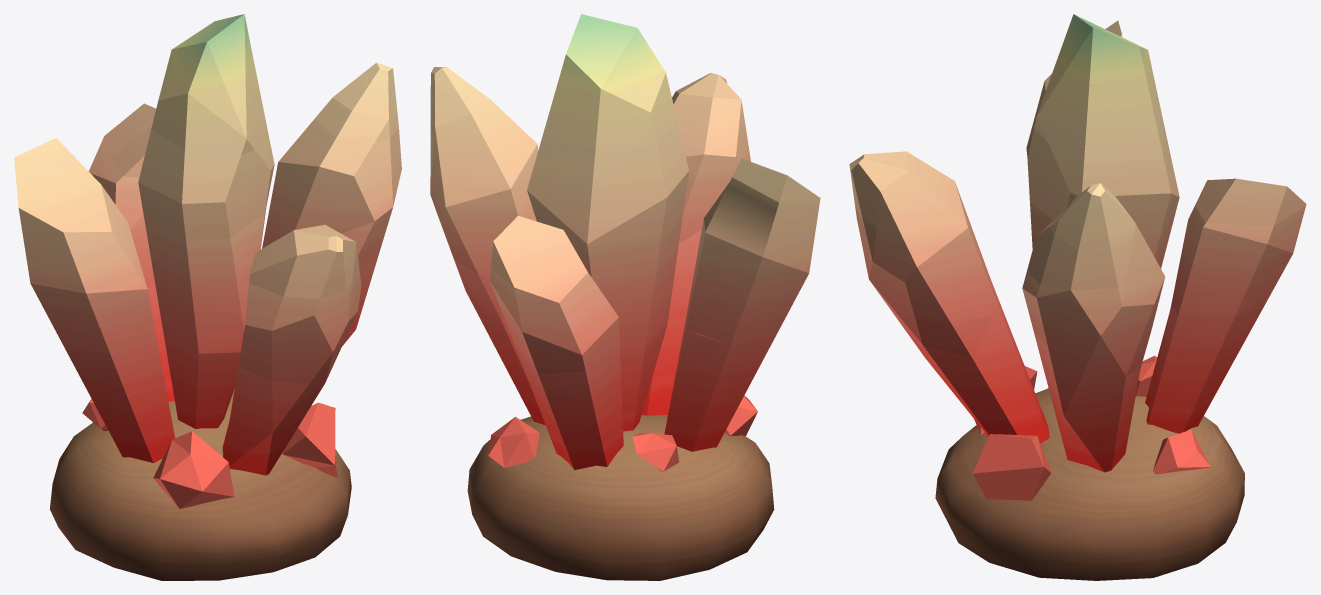
Rendered from Crystals_Dv2.fbx.
3 views of the same model, side by side, from view 1: azimuth 30°, elevation 25°; view 2: azimuth 150°, elevation 25°; view 3: azimuth 270°, elevation 25° (orthographic). The views are drawn at different scales.
Visible parts, largest first — view 1: Cylinder04, Cylinder01, Cylinder03, Cylinder02, Cylinder05; view 2: Cylinder04, Cylinder01, Cylinder03, Cylinder02, Cylinder05; view 3: Cylinder01, Cylinder03, Cylinder02, Cylinder04, Cylinder05.
Boxes of the visible parts, <box> form: Cylinder04: <box>19,103,401,305</box>; Cylinder01: <box>50,388,351,580</box>; Cylinder03: <box>42,141,401,384</box>; Cylinder02: <box>66,257,377,475</box>; Cylinder05: <box>14,14,398,213</box>; Cylinder04: <box>430,73,819,296</box>; Cylinder01: <box>467,395,774,580</box>; Cylinder03: <box>430,146,797,373</box>; Cylinder02: <box>453,257,773,470</box>; Cylinder05: <box>430,14,820,203</box>; Cylinder01: <box>935,355,1244,580</box>; Cylinder03: <box>855,199,1305,353</box>; Cylinder02: <box>892,306,1263,472</box>; Cylinder04: <box>849,74,1306,289</box>; Cylinder05: <box>1034,14,1163,250</box>.
Bounding box in the file's own units: 79.37 × 80.12 × 99.41.
